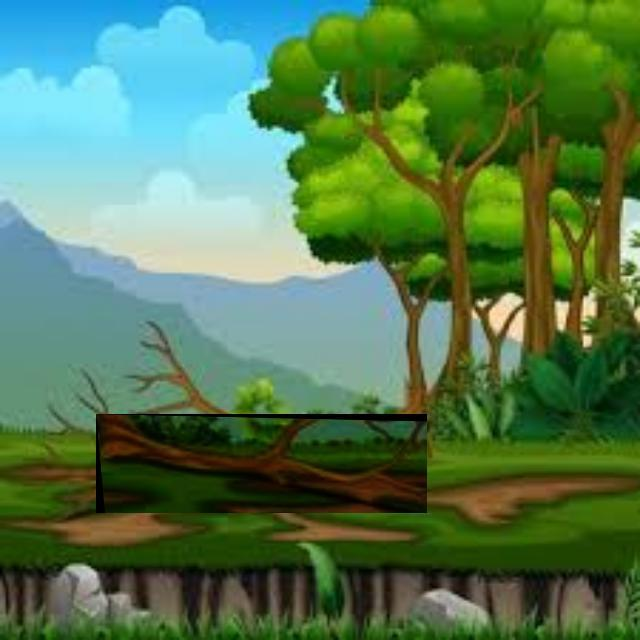fallen_tree: (96, 414, 428, 514)
